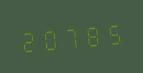eight: (81, 19, 101, 50)
five: (102, 17, 122, 48)
seven: (60, 21, 80, 52)
two: (18, 24, 38, 55)
zero: (39, 22, 59, 54)
